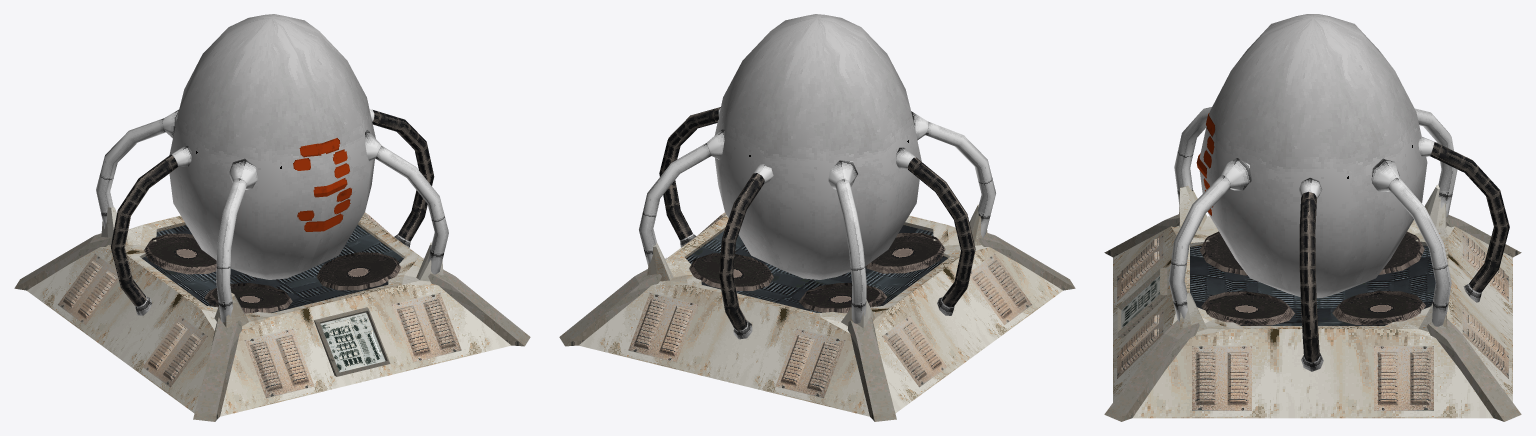
File: egg.glb
3 views of the same model, side by side, from view 1: azimuth 30°, elevation 25°; view 2: azimuth 150°, elevation 25°; view 3: azimuth 270°, elevation 25° (orthographic). The views are drawn at different scales.
Visible parts, largest first — view 1: Cube, Cube.001, Plane.003, BézierCurve.001, Circle, Cube.002, BézierCurve.007, Plane.005, Plane; view 2: Cube, Cube.001, Plane.003, BézierCurve.007, BézierCurve.001, Cube.002, Circle; view 3: Cube, Cube.001, Plane.003, BézierCurve.001, Cube.002, Circle, BézierCurve.007, Plane.005, Plane.
Boxes of the visible parts, x1,y1,x2,y2 form: Cube: (169,14,375,279); Cube.001: (26,207,510,416); Plane.003: (57,212,461,398); BézierCurve.001: (96,109,448,322); Circle: (144,233,400,313); Cube.002: (14,233,530,421); BézierCurve.007: (110,109,434,315); Plane.005: (314,307,390,376); Plane: (293,138,351,231); Cube: (714,14,921,279); Cube.001: (579,204,1063,416); Plane.003: (628,212,1032,398); BézierCurve.007: (659,107,975,339); BézierCurve.001: (639,111,995,323); Cube.002: (559,233,1075,421); Circle: (689,233,945,313); Cube: (1199,14,1427,297); Cube.001: (1113,185,1512,418); Plane.003: (1117,232,1508,410); BézierCurve.001: (1168,107,1457,326); Cube.002: (1104,214,1521,421); Circle: (1200,231,1425,325); BézierCurve.007: (1299,137,1509,371); Plane.005: (1117,267,1167,338); Plane: (1196,113,1215,215).
Size of the model in its own units: 2.09 by 1.74 by 2.09.
10 materials, 10 textured.
